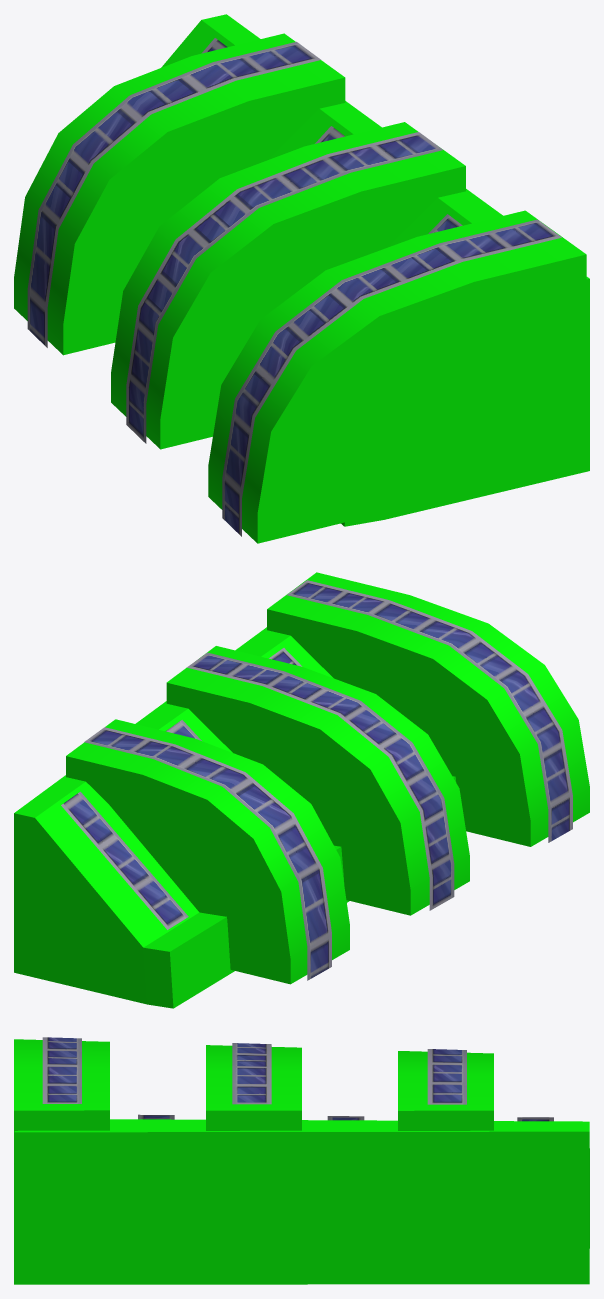
Rendered from building_6s_01.FBX.
3 renders of one model, top to bottom at view 1: azimuth 30°, elevation 25°; view 2: azimuth 150°, elevation 25°; view 3: azimuth 270°, elevation 25°, orthographic. The views are drawn at different scales.
Visible parts, largest first — view 1: building_6s_01; view 2: building_6s_01; view 3: building_6s_01.
Boxes of the visible parts, x1,y1,x2,y2 form: building_6s_01: (14,14,589,543); building_6s_01: (14,572,589,1008); building_6s_01: (14,1037,589,1284).
Size of the model in its own units: 12.73 by 8.14 by 24.02.
